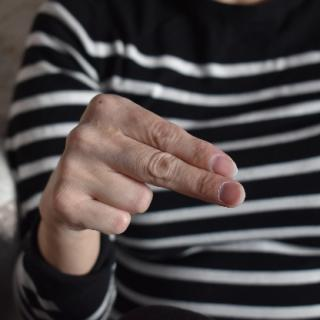AYN: (35, 87, 248, 236)
